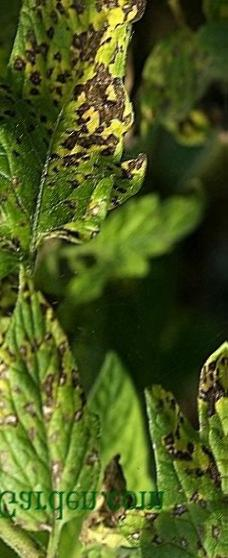Tomato Septoria leaf spot: (0, 0, 166, 258), (0, 259, 103, 525), (144, 311, 228, 558)
